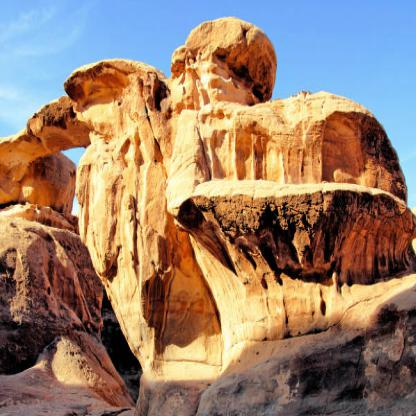Sedimentary_Sandstone: (171, 84, 395, 180), (182, 190, 414, 264), (1, 222, 101, 336), (171, 286, 294, 354), (56, 320, 138, 412), (61, 64, 155, 139), (109, 160, 159, 274), (318, 273, 413, 332)
